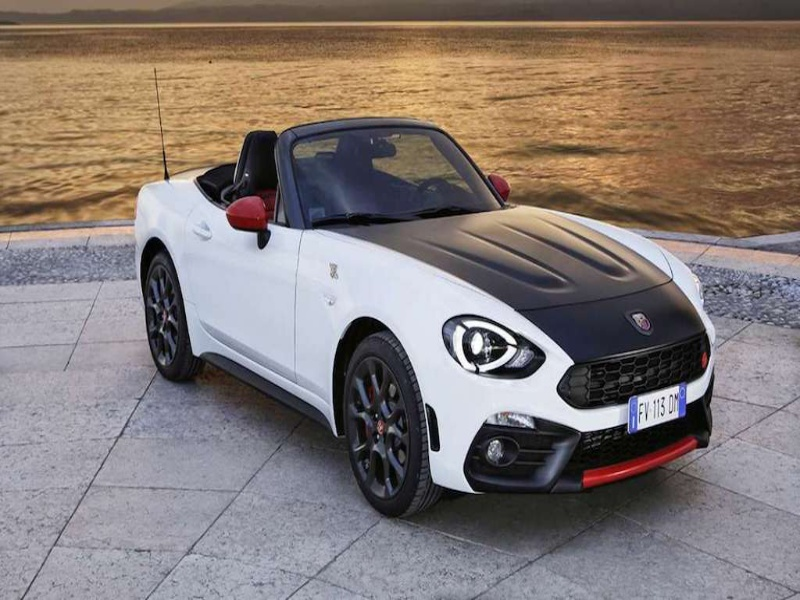licence_plate: (622, 375, 693, 434)
